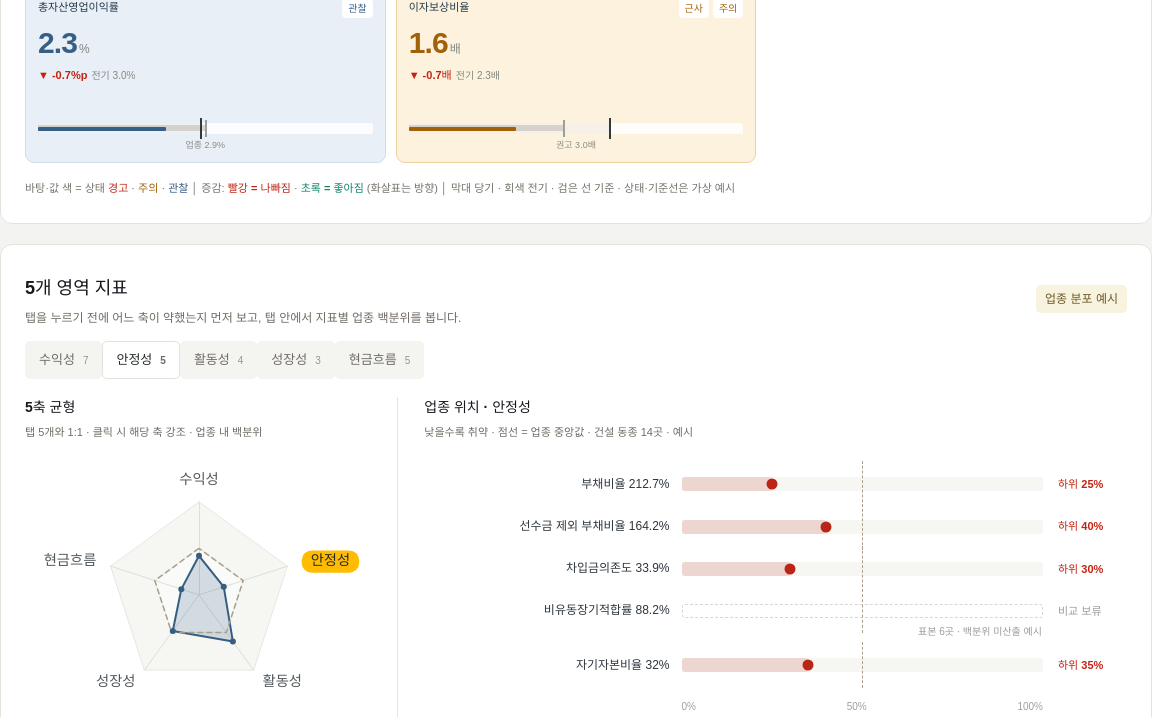
Test case: shows example industry percentiles and changes the metric list with the selected axis
This screenshot has width=1152, height=717.
(page scrolled)
Expected: the text "하위 25%" is shown, x1=1058 y1=478 x2=1103 y2=490
Expected: the picture named "비유동장기적합률: 비교 보류" is shown, x1=682 y1=604 x2=1043 y2=618
Click the tab "현금흐름5": (380, 360) x1=335 y1=342 x2=424 y2=379
(page scrolled)
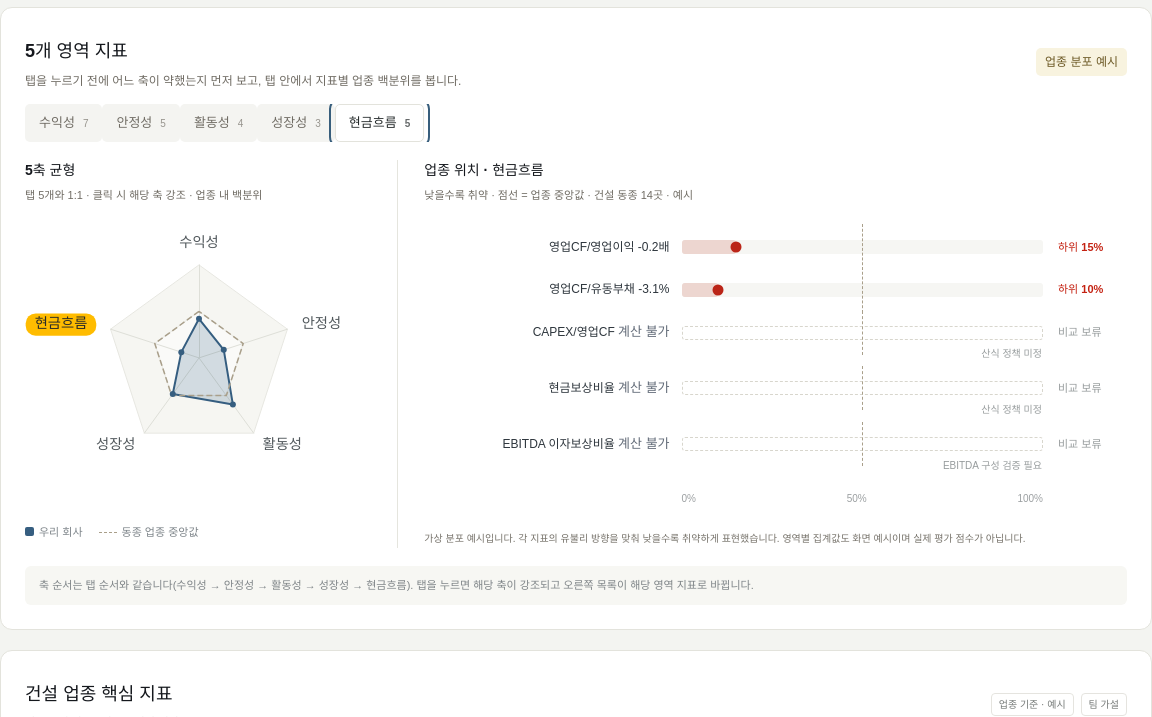
Expected: the picture named "5축 업종 백분위." is shown, x1=25 y1=206 x2=373 y2=516
Now the panel shows "영업CF/영업이익", box x1=549 y1=238 x2=670 y2=257
Now the panel shows "하위 15%", box x1=1058 y1=241 x2=1103 y2=253
